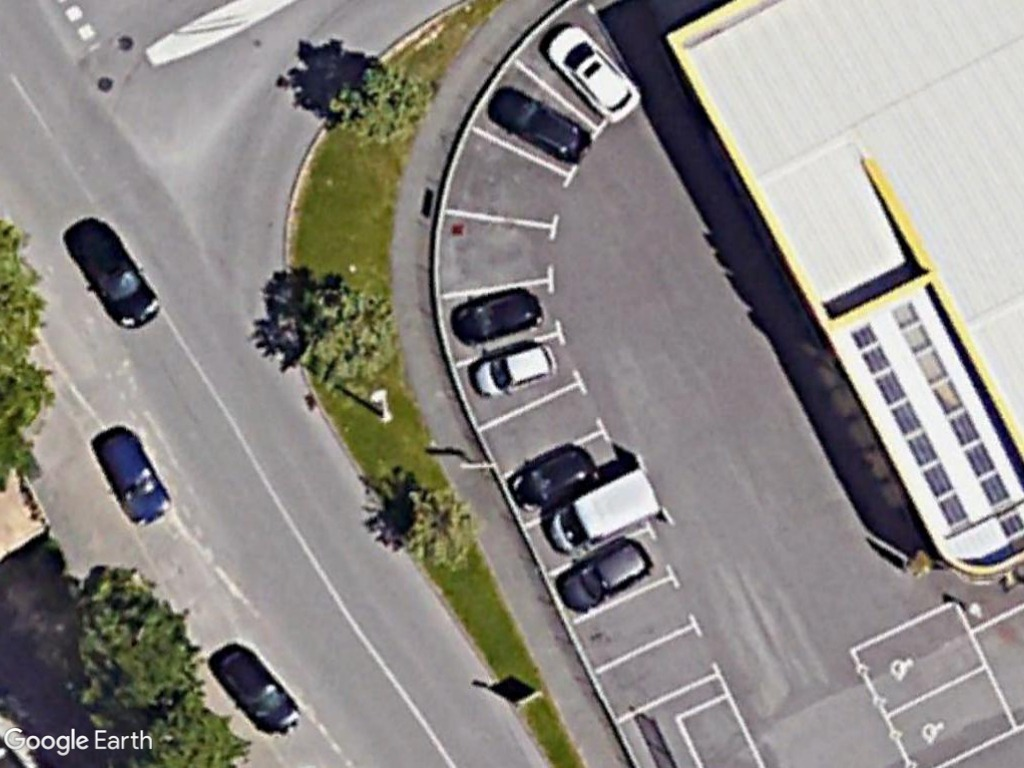car: (542, 21, 644, 123), (99, 429, 173, 529), (557, 536, 653, 613), (471, 341, 559, 400)
van: (544, 465, 664, 556)
